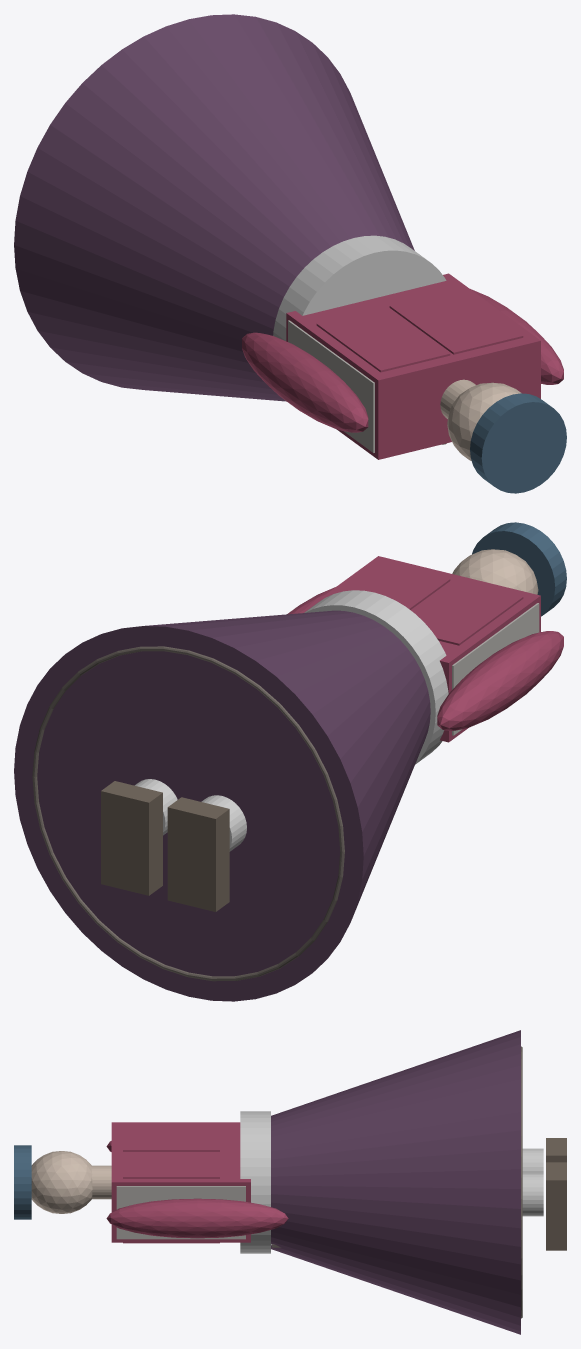
Rendered from MASTER_074_STAGE3_DETAIL.glb.
3 renders of one model, top to bottom at view 1: azimuth 30°, elevation 25°; view 2: azimuth 150°, elevation 25°; view 3: azimuth 270°, elevation 25°, orthographic. The views are drawn at different scales.
Parts seen in each view (by area): view 1: slot_lower_main__fund_i_gjatë, slot_upper_inner__këmishë, slot_waist__brez, slot_headwear__mbulesë_koke, slot_upper_inner_sleeve_L, slot_upper_outer__jelek_L, slot_upper_outer__jelek_R, mannequin_torso, mannequin_head, slot_upper_inner_sleeve_R; view 2: slot_lower_main__fund_i_gjatë, slot_footwear__opinga_L, slot_footwear__opinga_R, slot_upper_inner_sleeve_L, detail_skirt_hem, slot_waist__brez, slot_upper_outer__jelek_L, slot_headwear__mbulesë_koke, slot_upper_inner__këmishë, slot_upper_outer__jelek_R, mannequin_head, mannequin_torso (+2 smaller); view 3: slot_lower_main__fund_i_gjatë, slot_upper_inner_sleeve_R, slot_upper_inner__këmishë, mannequin_head, slot_waist__brez, slot_upper_outer__jelek_R, slot_upper_outer__jelek_L, mannequin_torso, slot_footwear__opinga_R, slot_headwear__mbulesë_koke, slot_legwear__çorape_R, mannequin_neck (+3 smaller).
Boxes of the visible parts, x1,y1,x2,y2 form: slot_lower_main__fund_i_gjatë: [14, 14, 414, 401]; slot_upper_inner__këmishë: [286, 273, 540, 459]; slot_waist__brez: [273, 235, 446, 340]; slot_headwear__mbulesë_koke: [470, 393, 566, 493]; slot_upper_inner_sleeve_L: [242, 332, 368, 432]; slot_upper_outer__jelek_L: [316, 306, 450, 372]; slot_upper_outer__jelek_R: [389, 289, 523, 354]; mannequin_torso: [288, 320, 374, 452]; mannequin_head: [447, 382, 521, 460]; slot_upper_inner_sleeve_R: [470, 289, 563, 384]; slot_lower_main__fund_i_gjatë: [14, 610, 430, 1001]; slot_footwear__opinga_L: [167, 797, 229, 911]; slot_footwear__opinga_R: [101, 781, 162, 895]; slot_upper_inner_sleeve_L: [437, 631, 563, 730]; detail_skirt_hem: [32, 646, 344, 981]; slot_waist__brez: [304, 590, 448, 764]; slot_upper_outer__jelek_L: [411, 580, 523, 645]; slot_headwear__mbulesë_koke: [472, 522, 566, 616]; slot_upper_inner__këmishë: [300, 556, 540, 742]; slot_upper_outer__jelek_R: [339, 562, 450, 609]; mannequin_head: [452, 549, 538, 594]; mannequin_torso: [452, 603, 539, 735]; slot_lower_main__fund_i_gjatë: [271, 1030, 520, 1334]; slot_upper_inner_sleeve_R: [106, 1198, 288, 1238]; slot_upper_inner__këmishë: [111, 1122, 250, 1242]; mannequin_head: [31, 1151, 92, 1213]; slot_waist__brez: [240, 1111, 270, 1253]; slot_upper_outer__jelek_R: [123, 1151, 219, 1243]; slot_upper_outer__jelek_L: [123, 1124, 219, 1151]; mannequin_torso: [116, 1186, 245, 1239]; slot_footwear__opinga_R: [546, 1162, 566, 1250]; slot_headwear__mbulesë_koke: [14, 1145, 31, 1219]; slot_legwear__çorape_R: [522, 1173, 543, 1216]; mannequin_neck: [91, 1165, 111, 1199].
Bounding box in the file's own units: 0.9435 × 0.9435 × 1.71.
